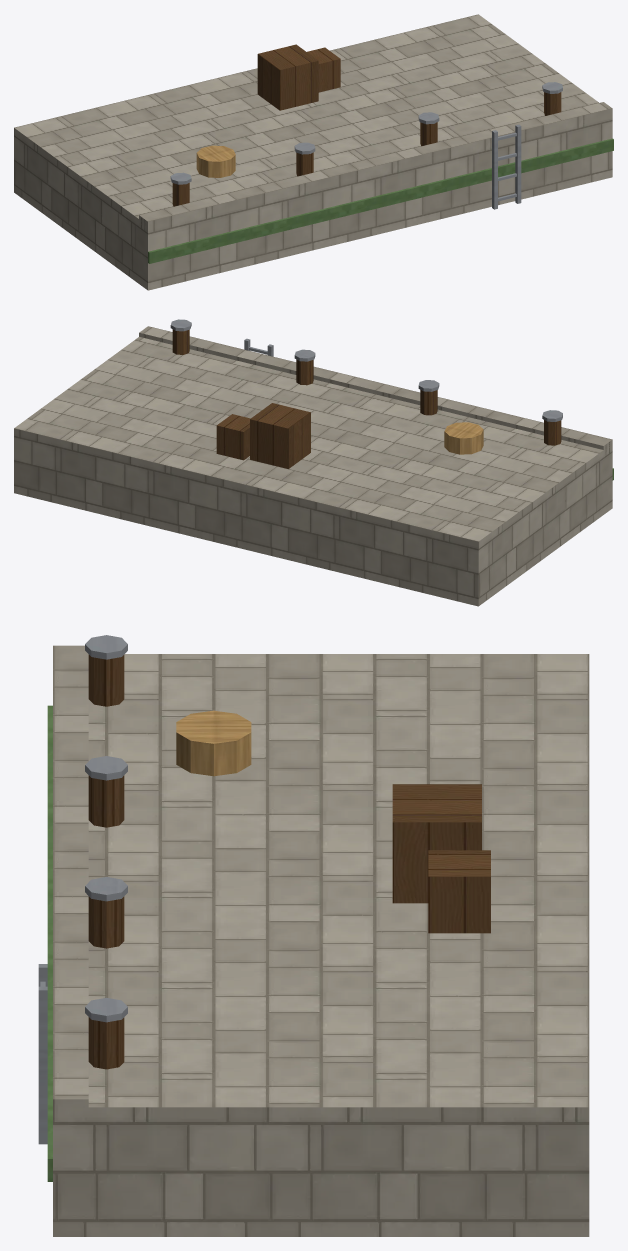
The model's file is harbour.quay.glb.
3 renders of one model, top to bottom at view 1: azimuth 30°, elevation 25°; view 2: azimuth 150°, elevation 25°; view 3: azimuth 270°, elevation 25°, orthographic. The views are drawn at different scales.
Visible parts, largest first — view 1: town.harbour.quay; view 2: town.harbour.quay; view 3: town.harbour.quay.
Part boxes in pixels (bbox=[...]): town.harbour.quay: bbox=[14, 14, 613, 290]; town.harbour.quay: bbox=[14, 319, 613, 606]; town.harbour.quay: bbox=[38, 635, 589, 1236].
Bounding box in the file's own units: 6 × 1.3 × 3.08.
5 materials, 5 textured.
